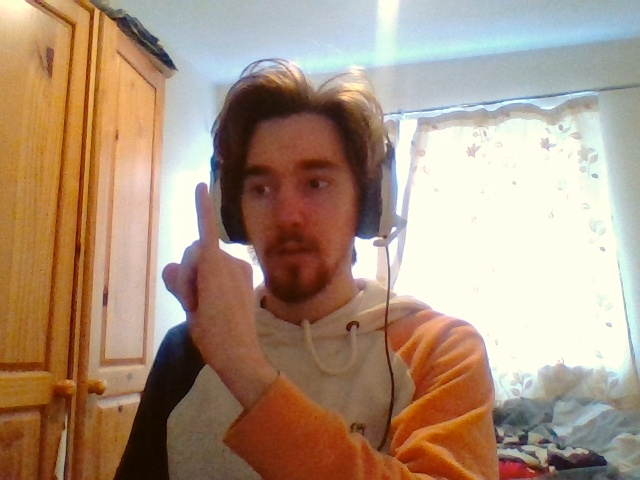bad: (163, 183, 256, 360)
